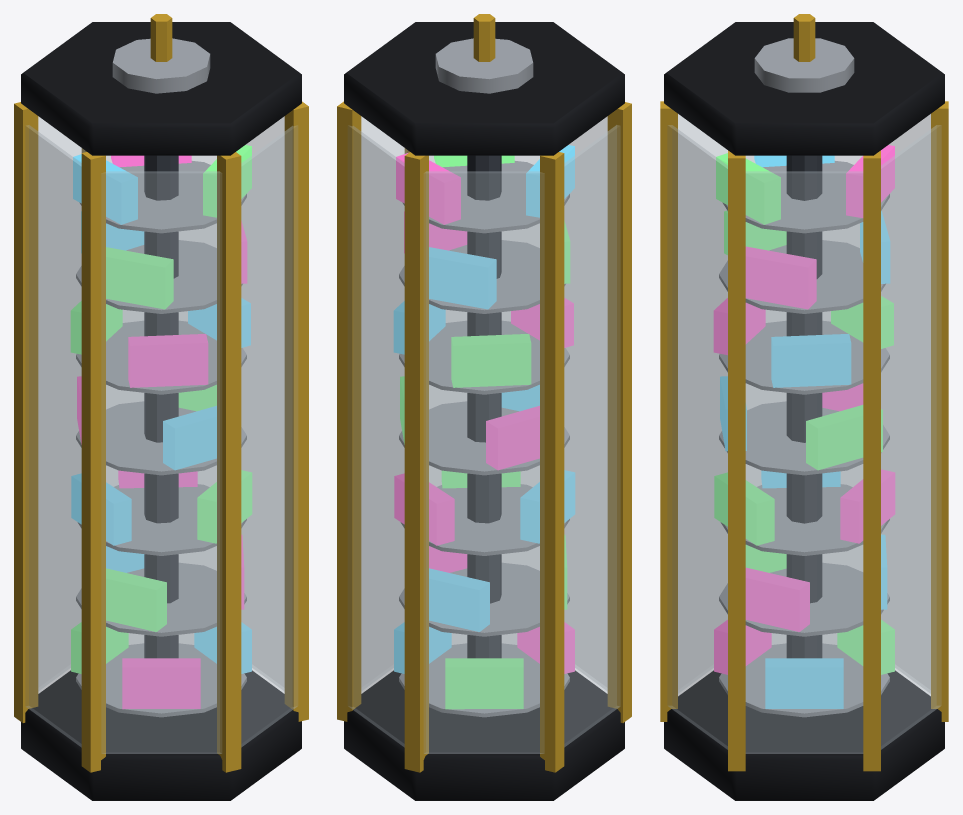
Rendered from rack_crystal_archive_tower.glb.
3 renders of one model, left to right at view 1: azimuth 30°, elevation 25°; view 2: azimuth 150°, elevation 25°; view 3: azimuth 270°, elevation 25°, orthographic.
Visible parts, largest first — view 1: rack_crystal_archive_tower; view 2: rack_crystal_archive_tower; view 3: rack_crystal_archive_tower.
Boxes of the visible parts, <box> form: rack_crystal_archive_tower: <box>14,14,308,800</box>; rack_crystal_archive_tower: <box>337,14,631,800</box>; rack_crystal_archive_tower: <box>660,14,948,800</box>.
Bounding box in the file's own units: 0.7082 × 2.27 × 0.81.
